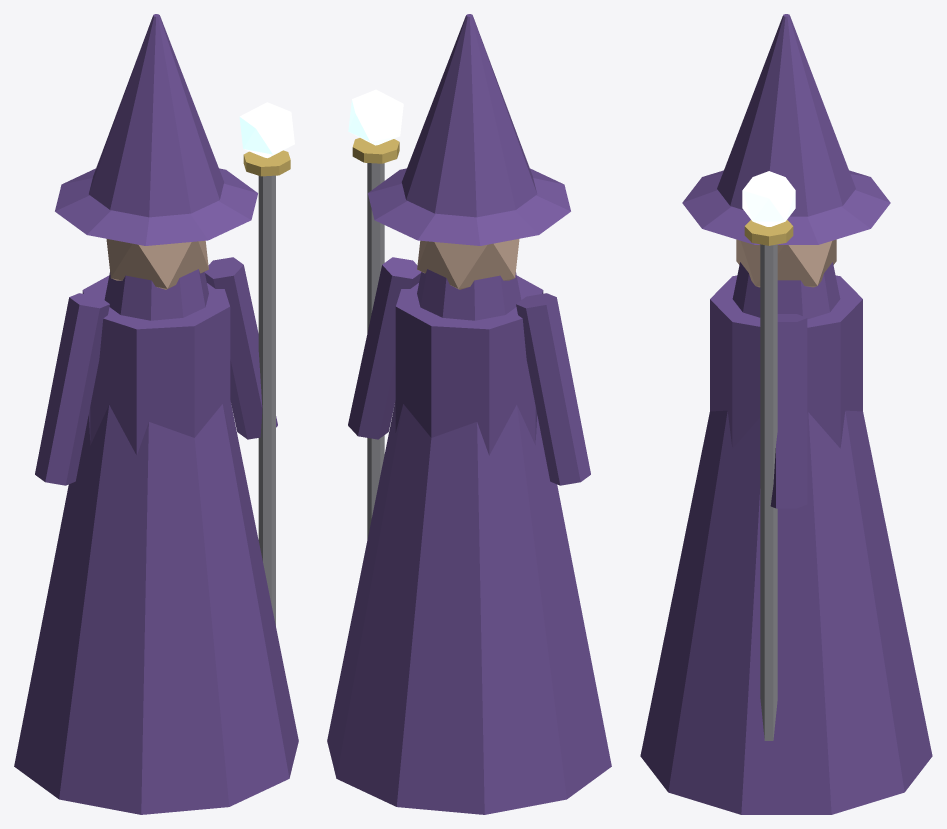
The model's file is mage.glb.
3 renders of one model, left to right at view 1: azimuth 30°, elevation 25°; view 2: azimuth 150°, elevation 25°; view 3: azimuth 270°, elevation 25°, orthographic.
Parts seen in each view (by area): view 1: robe, robe_upper, hat_top, arm_l, hat_brim, staff, arm_r, head, crystal, staff_ring; view 2: robe, robe_upper, hat_top, arm_l, hat_brim, arm_r, head, staff, crystal, staff_ring; view 3: robe, hat_top, robe_upper, staff, arm_r, hat_brim, head, crystal, staff_ring.
Part boxes in pixels (x1,y1,x2,y2): robe: [14, 269, 298, 814]; robe_upper: [82, 275, 230, 455]; hat_top: [89, 14, 224, 217]; arm_l: [35, 293, 109, 485]; hat_brim: [55, 168, 257, 245]; staff: [258, 175, 275, 625]; arm_r: [204, 257, 277, 439]; head: [106, 238, 208, 289]; crystal: [239, 102, 294, 158]; staff_ring: [243, 150, 290, 176]; robe: [327, 269, 611, 814]; robe_upper: [395, 275, 543, 455]; hat_top: [401, 14, 536, 217]; arm_l: [516, 293, 590, 485]; hat_brim: [368, 168, 570, 245]; arm_r: [348, 257, 421, 439]; head: [417, 238, 519, 289]; staff: [367, 163, 384, 539]; crystal: [348, 89, 403, 145]; staff_ring: [352, 138, 399, 163]; robe: [640, 262, 932, 814]; hat_top: [717, 14, 855, 216]; robe_upper: [710, 275, 862, 448]; staff: [760, 244, 777, 740]; arm_r: [770, 314, 807, 508]; hat_brim: [682, 170, 890, 244]; head: [736, 239, 836, 287]; crystal: [742, 171, 795, 226]; staff_ring: [744, 220, 793, 245].
Size of the model in its own units: 0.8199 by 2.35 by 0.84.
